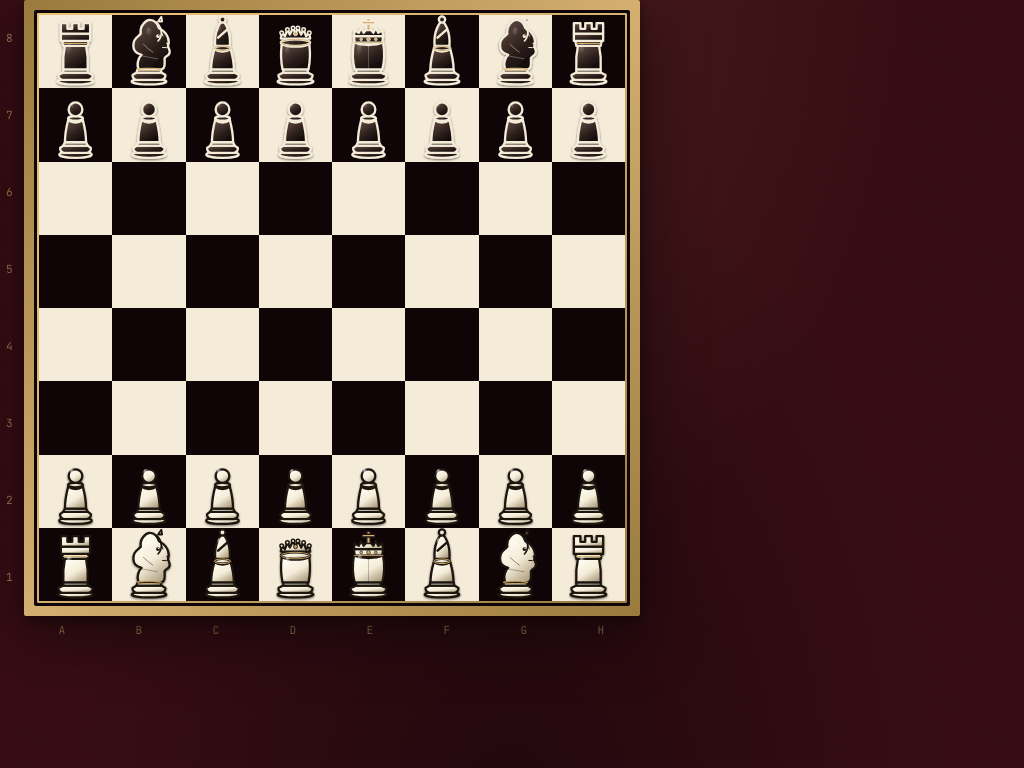
Test: Board › renders the last-move arrow after a move is played
The image size is (1024, 768).
Click the element with test id "square-e2".
click(369, 491)  # box [332,454,405,528]
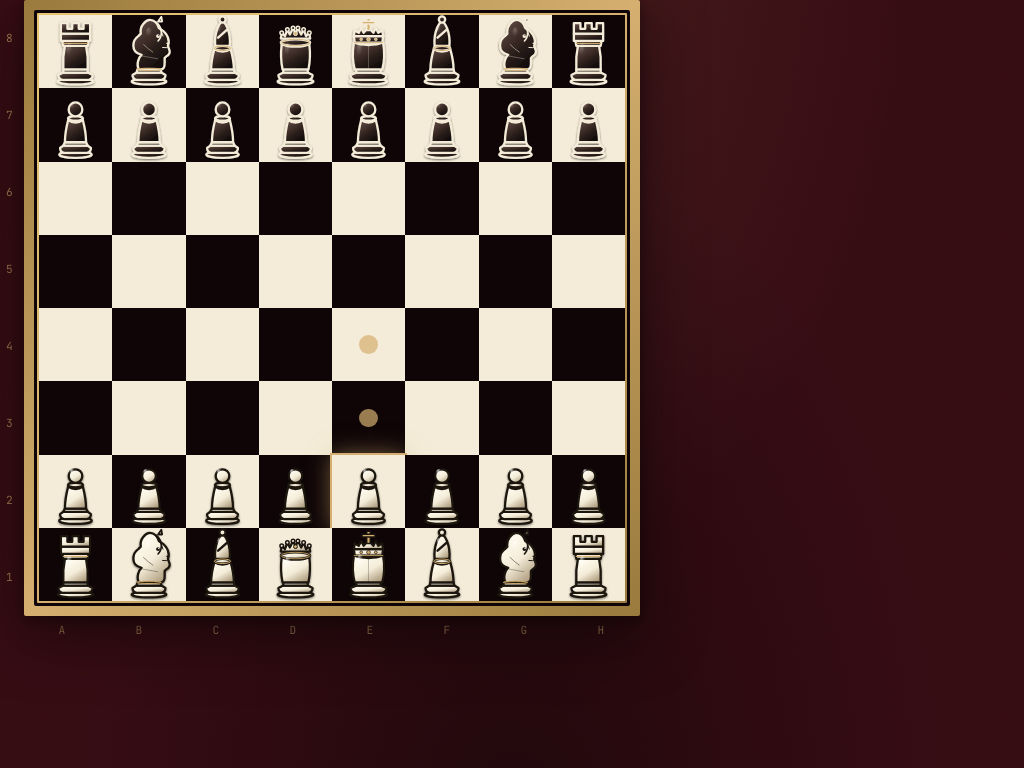
Click the element with test id "square-e4".
click(369, 345)  # box [332,308,405,381]
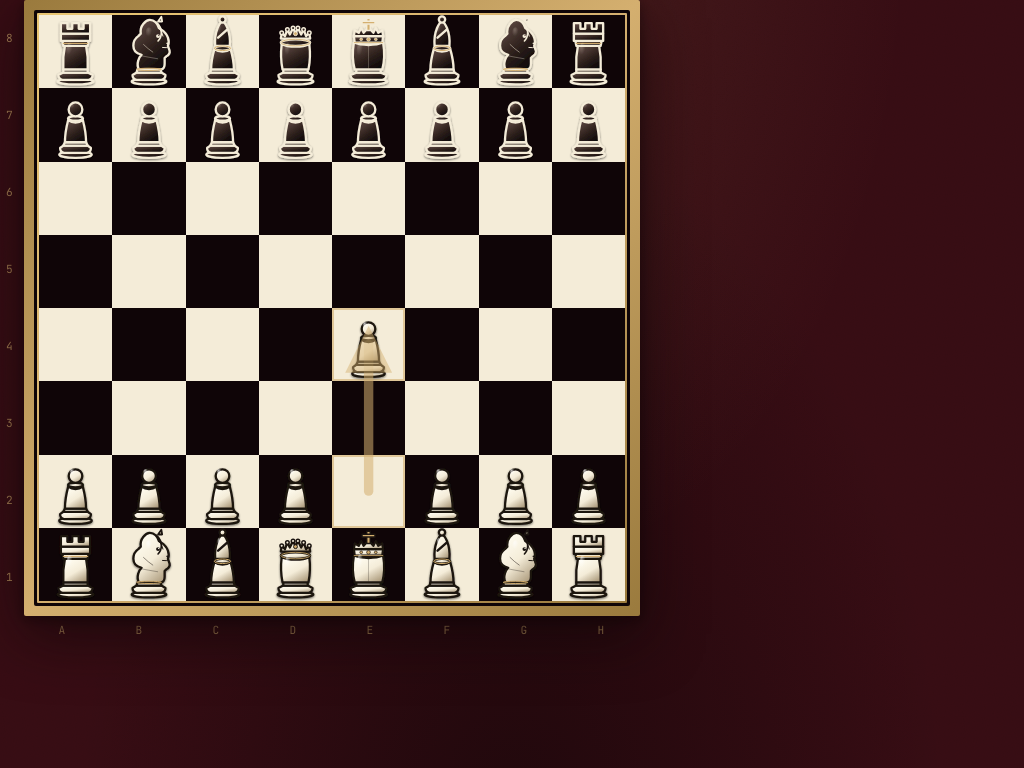
Expected: the icon with test id "last-move-arrow" is shown, [39,15,625,601]
